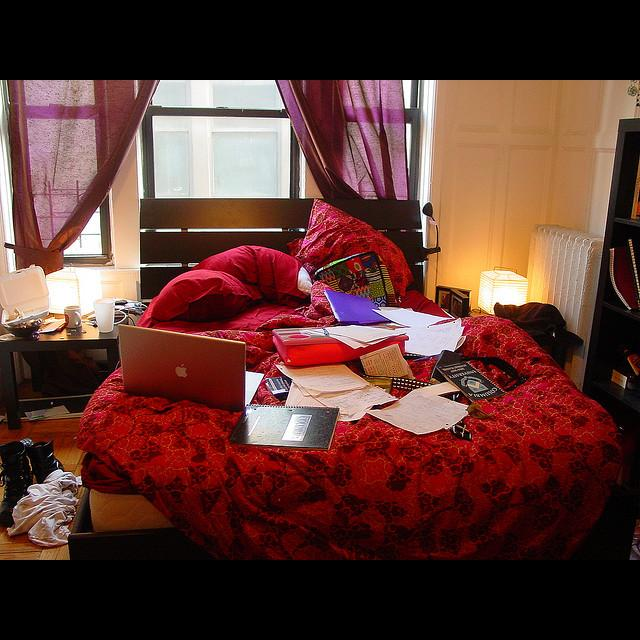Laptop: (119, 324, 265, 411)
